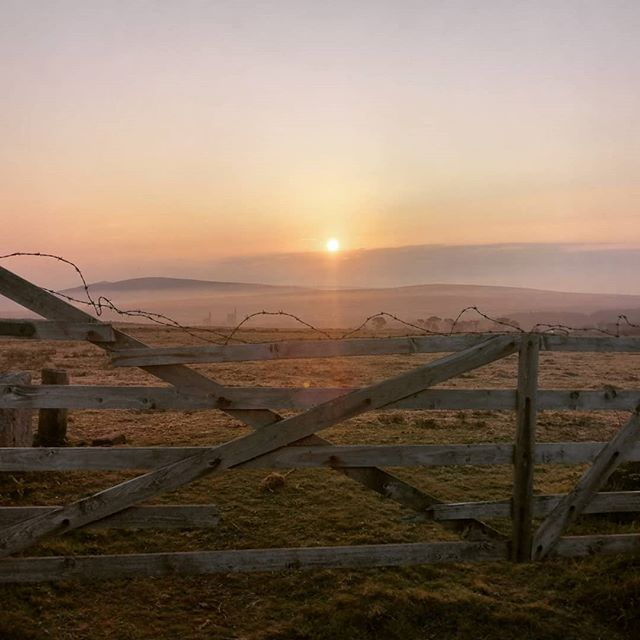barbed wire: (7, 249, 628, 332)
gate: (25, 342, 636, 588)
sky: (1, 1, 628, 243)
sun: (311, 235, 357, 257)
